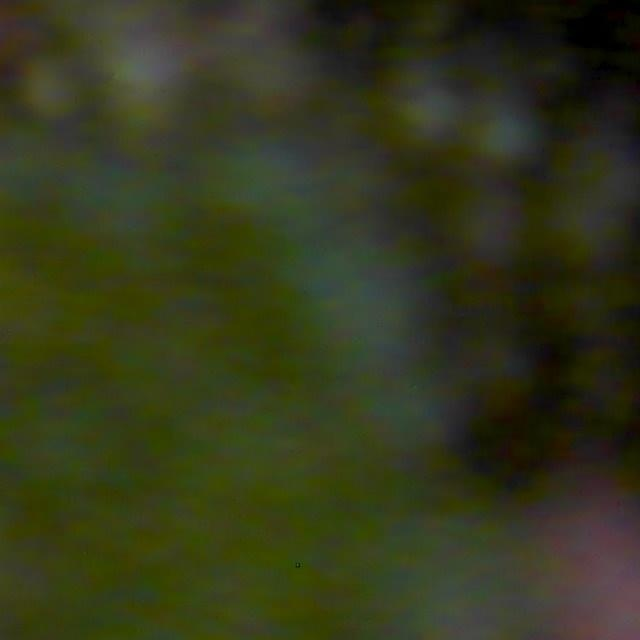SeaGrape: (390, 78, 465, 150), (470, 100, 543, 171), (21, 60, 83, 122)
